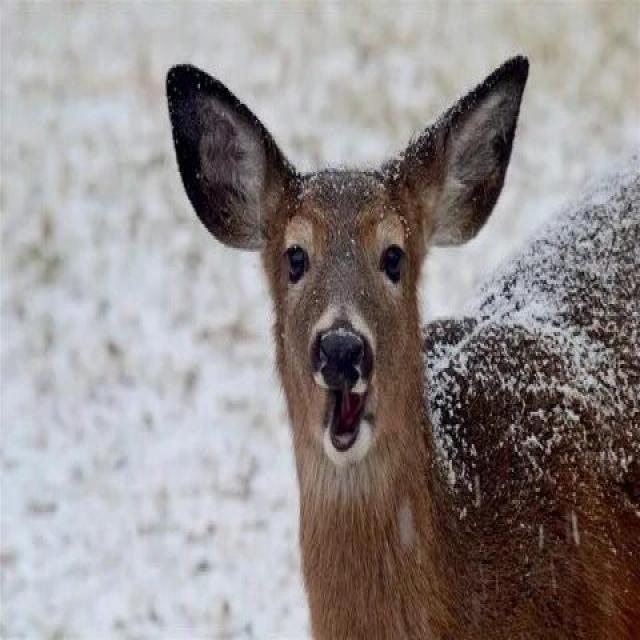deer: (158, 42, 640, 640)
